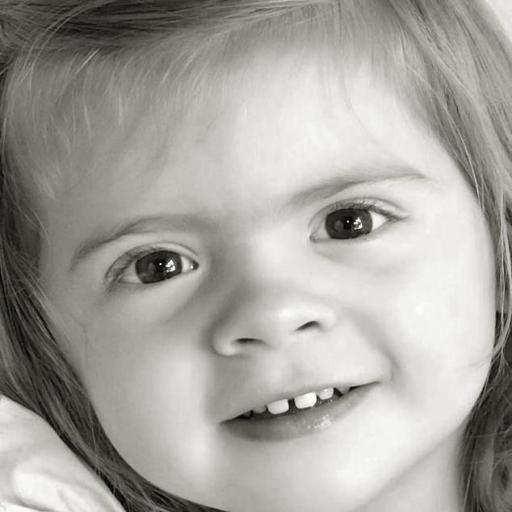Autism: (11, 12, 512, 512)
